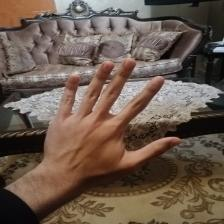five: (45, 57, 184, 176)
